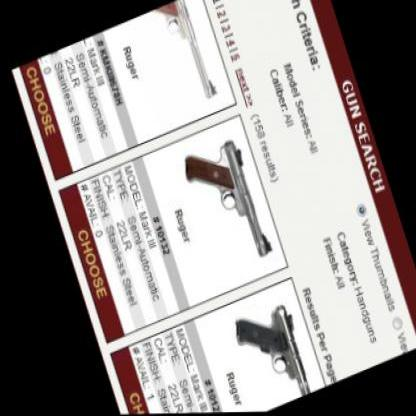pistol: (177, 132, 270, 273), (224, 294, 310, 409), (139, 0, 220, 116)
